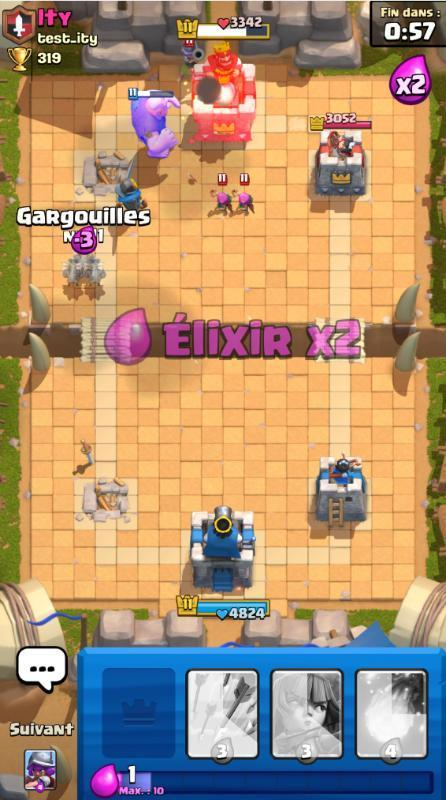enemy_archers: (206, 175, 234, 216), (233, 175, 257, 216)
player_giant: (125, 84, 184, 162)
player_knight: (109, 156, 149, 209)
